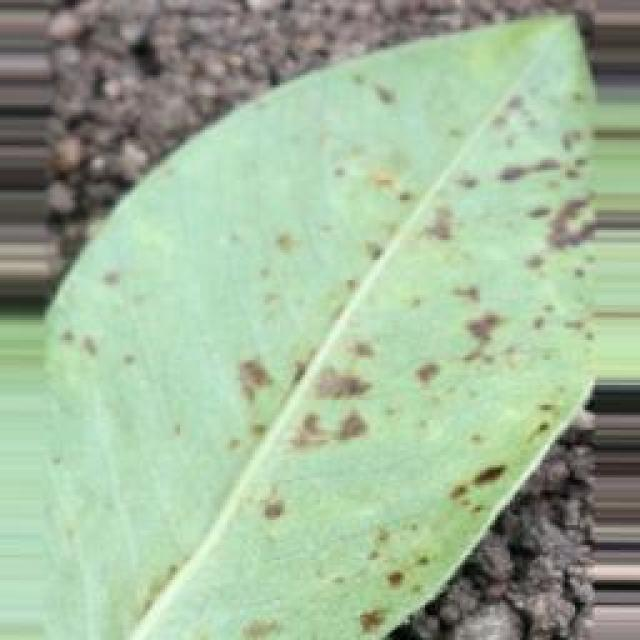Whitefly: (59, 0, 616, 633)
